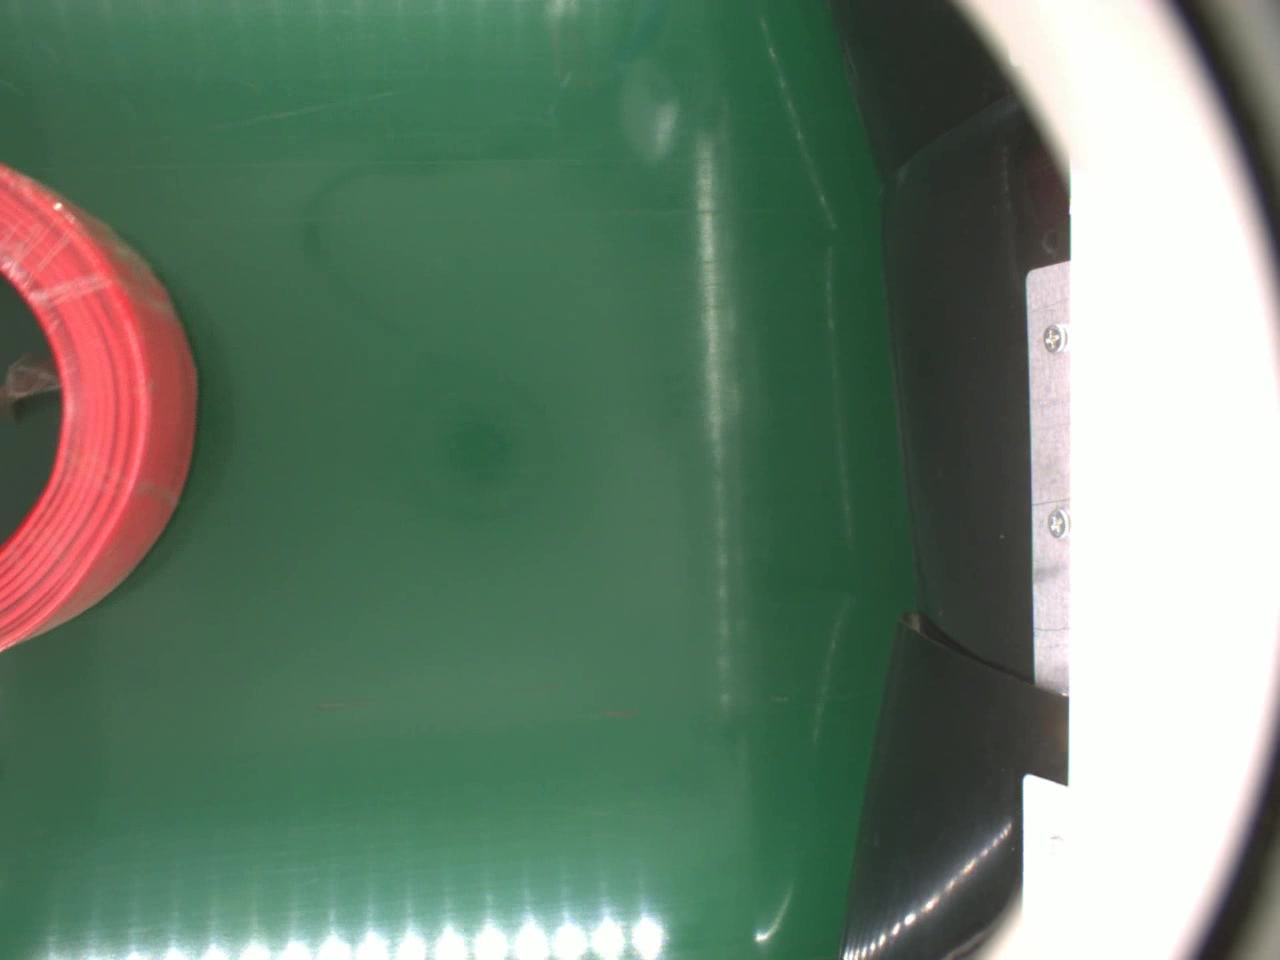red: (0, 153, 205, 647)
